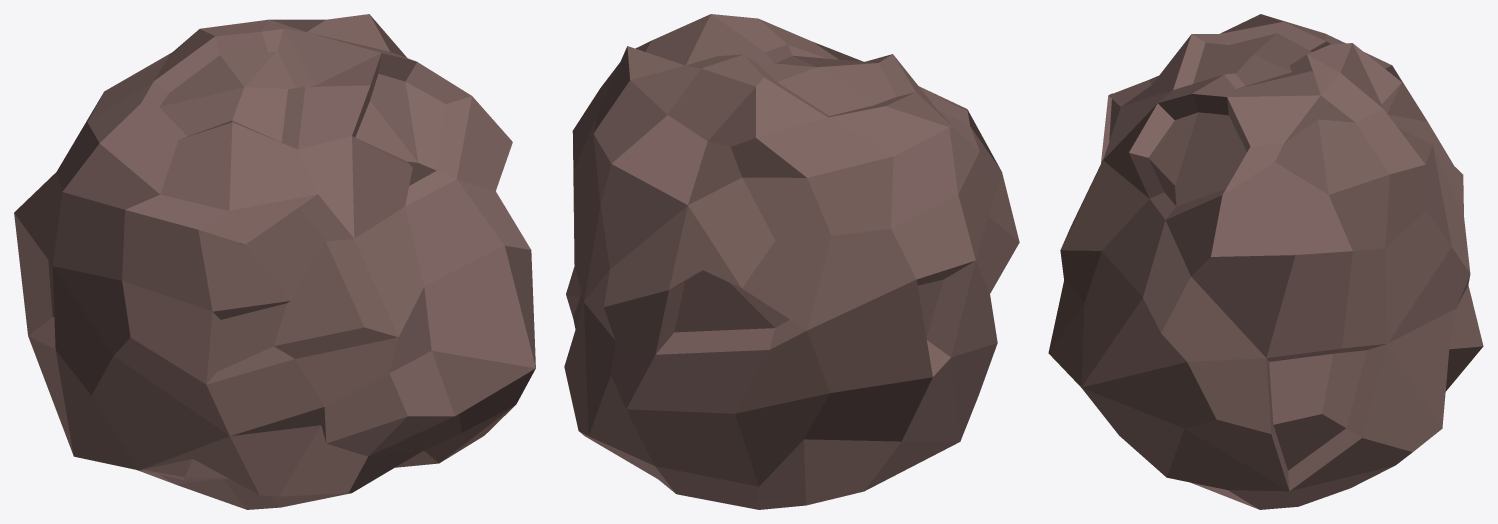
The model's file is asteroid_2.glb.
The picture shows the model from 3 angles, left to right: view 1: azimuth 30°, elevation 25°; view 2: azimuth 150°, elevation 25°; view 3: azimuth 270°, elevation 25°; orthographic projection. The views are drawn at different scales.
Parts seen in each view (by area): view 1: Sphere; view 2: Sphere; view 3: Sphere.
Part boxes in pixels (<box>): Sphere: <box>14,14,535,509</box>; Sphere: <box>564,14,1019,509</box>; Sphere: <box>1048,14,1483,509</box>.
Size of the model in its own units: 1.73 by 1.78 by 1.64.
